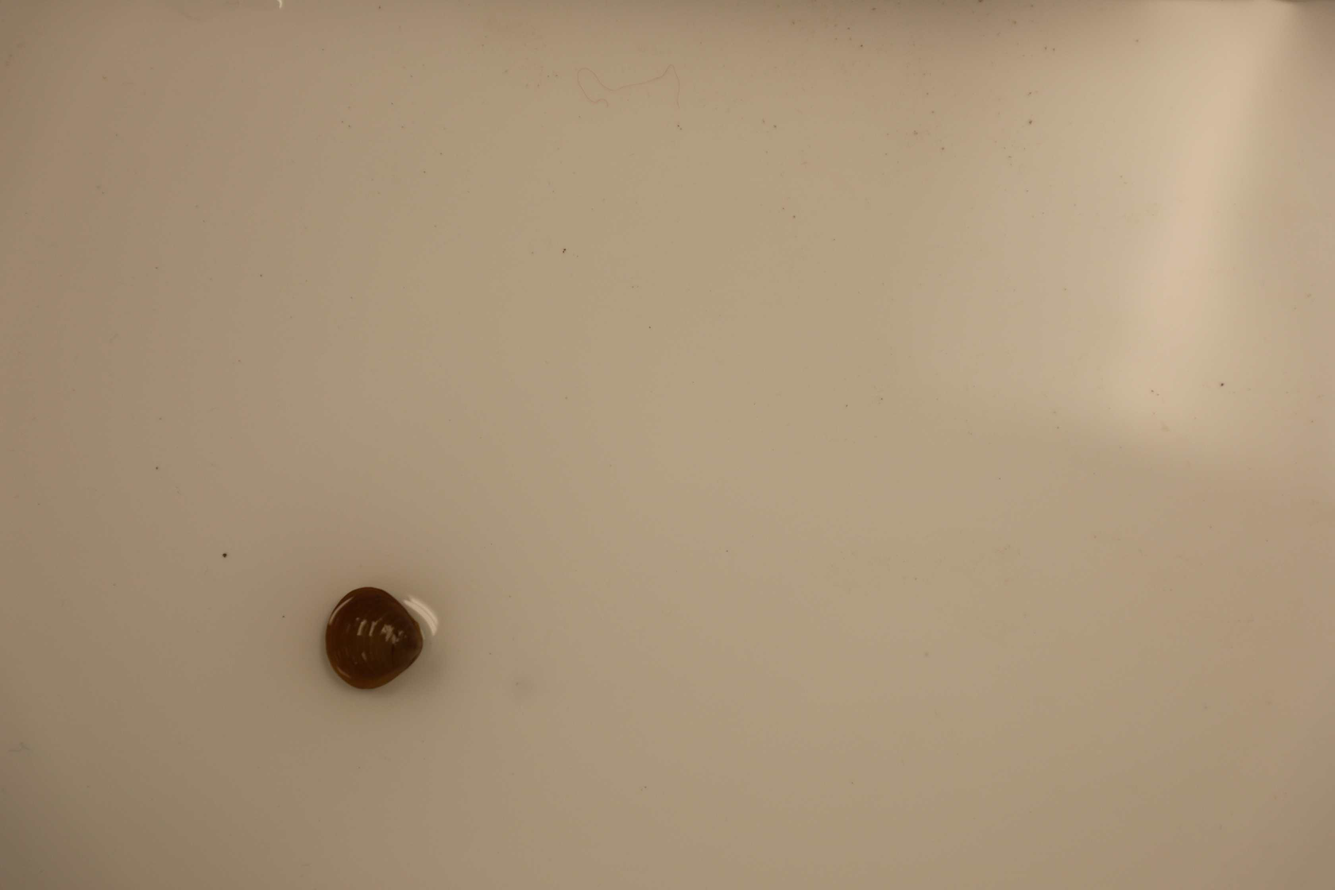Other: (309, 591, 429, 694)
